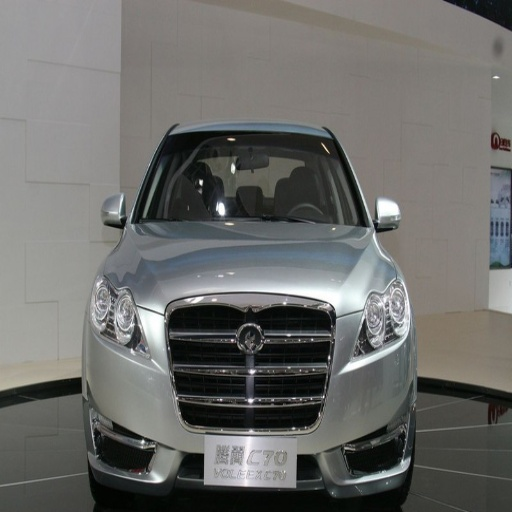front_bumper: (89, 292, 414, 511)
front_right_light: (89, 275, 151, 359)
hood: (112, 220, 392, 314)
